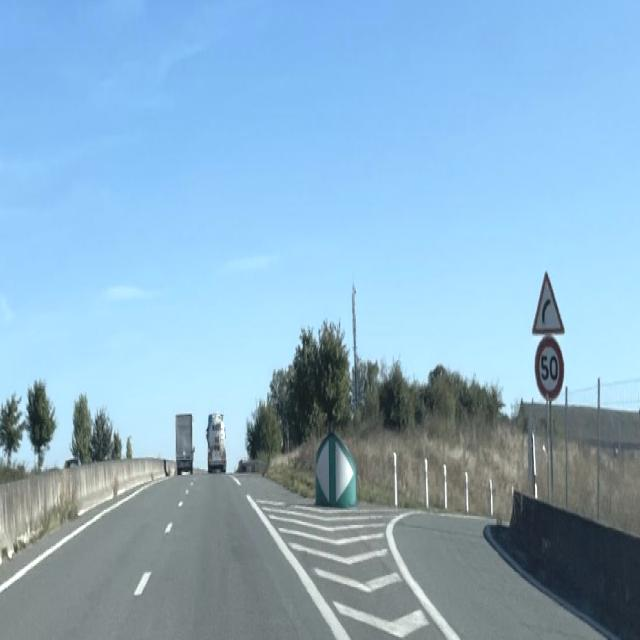speed_50: (534, 335, 565, 400)
